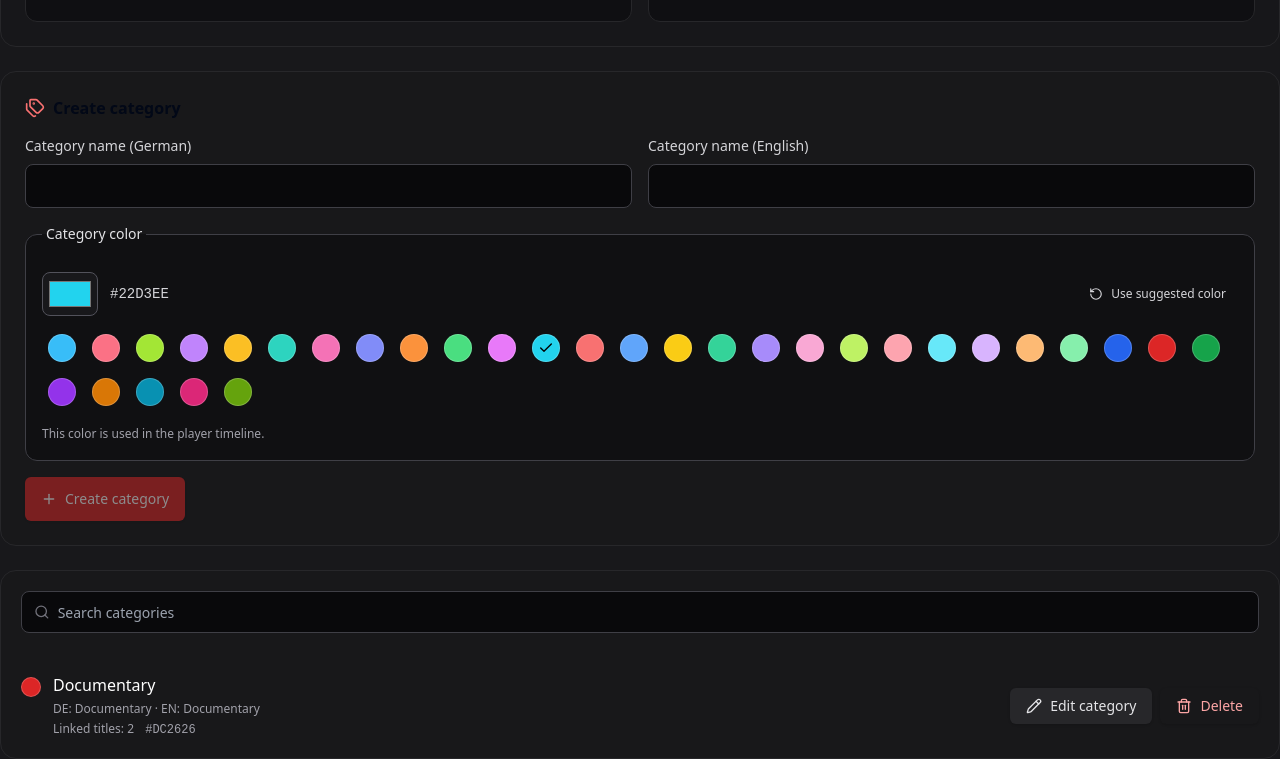
requires confirmation before deleting a linked category
(page scrolled)
Click the button with aria-label "Delete category: Documentary". click: click(1210, 706)
box: [1160, 688, 1259, 724]
(page scrolled)
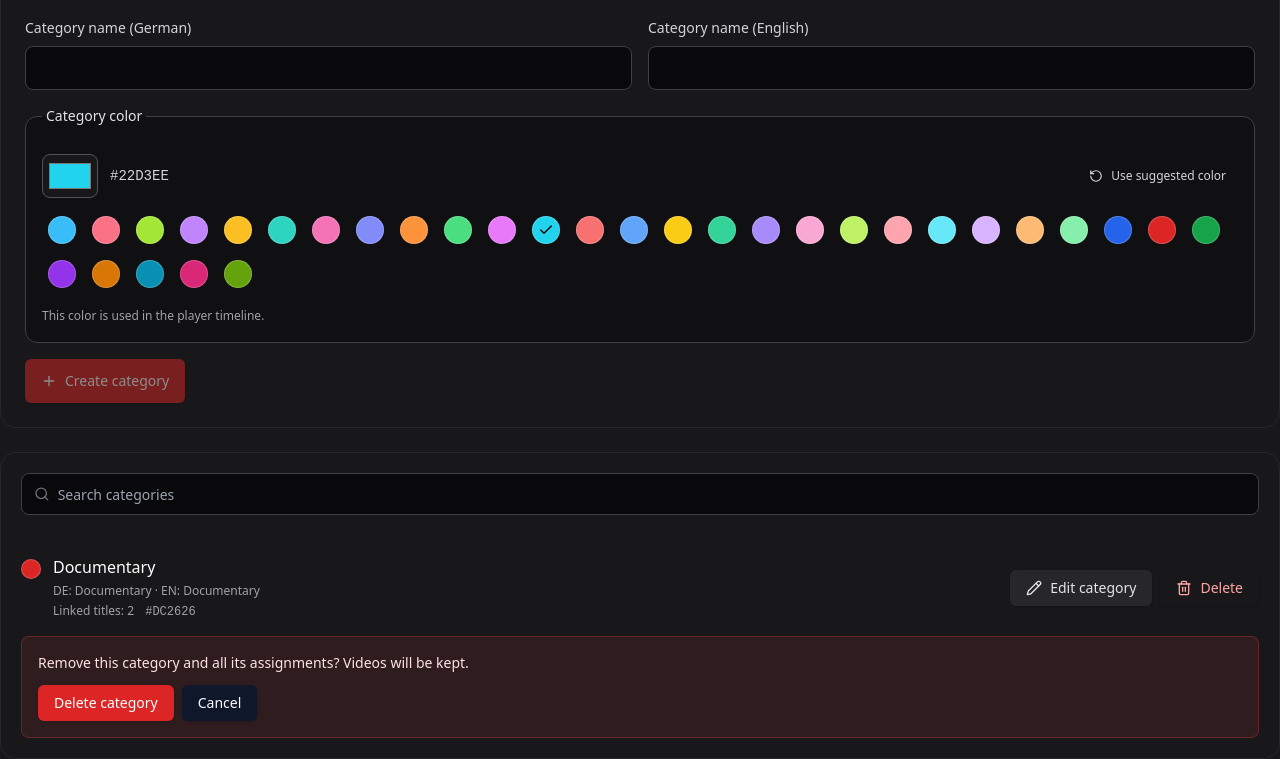
Now the text "Remove this category and all its assignments? Videos will be kept." is shown, box [38, 653, 469, 672]
Click the button "Cancel". click: click(220, 703)
box: [182, 685, 257, 721]
(page scrolled)
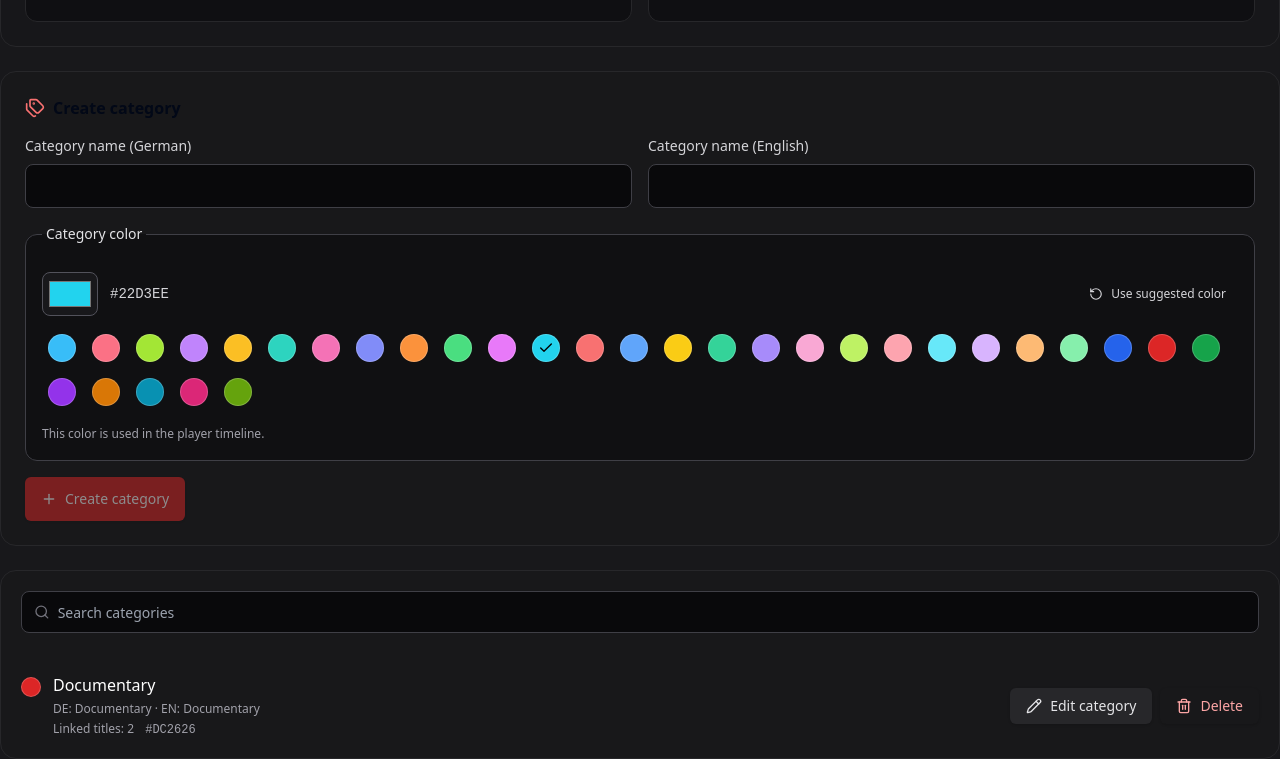
Click the button with aria-label "Delete category: Documentary". click: click(1210, 706)
box: [1160, 688, 1259, 724]
(page scrolled)
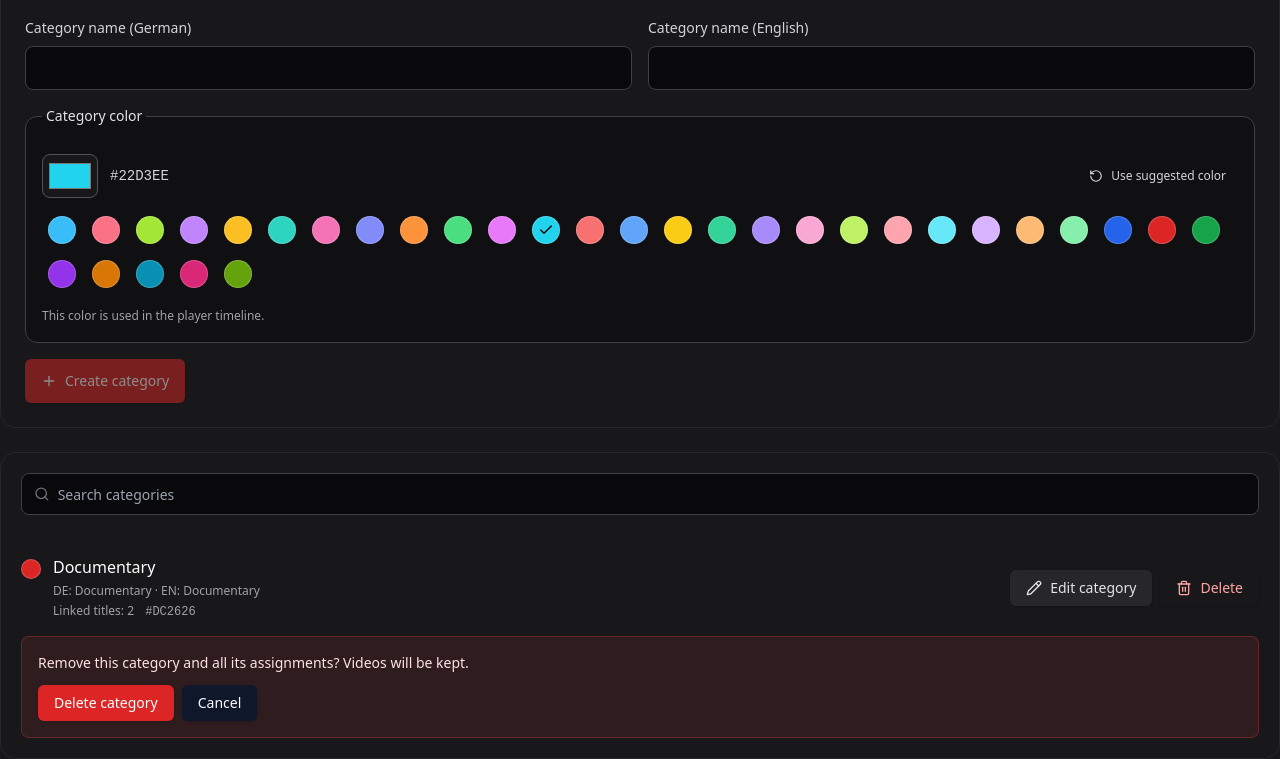
Click the button "Delete category". click: click(106, 703)
box: [38, 685, 174, 721]
(page scrolled)
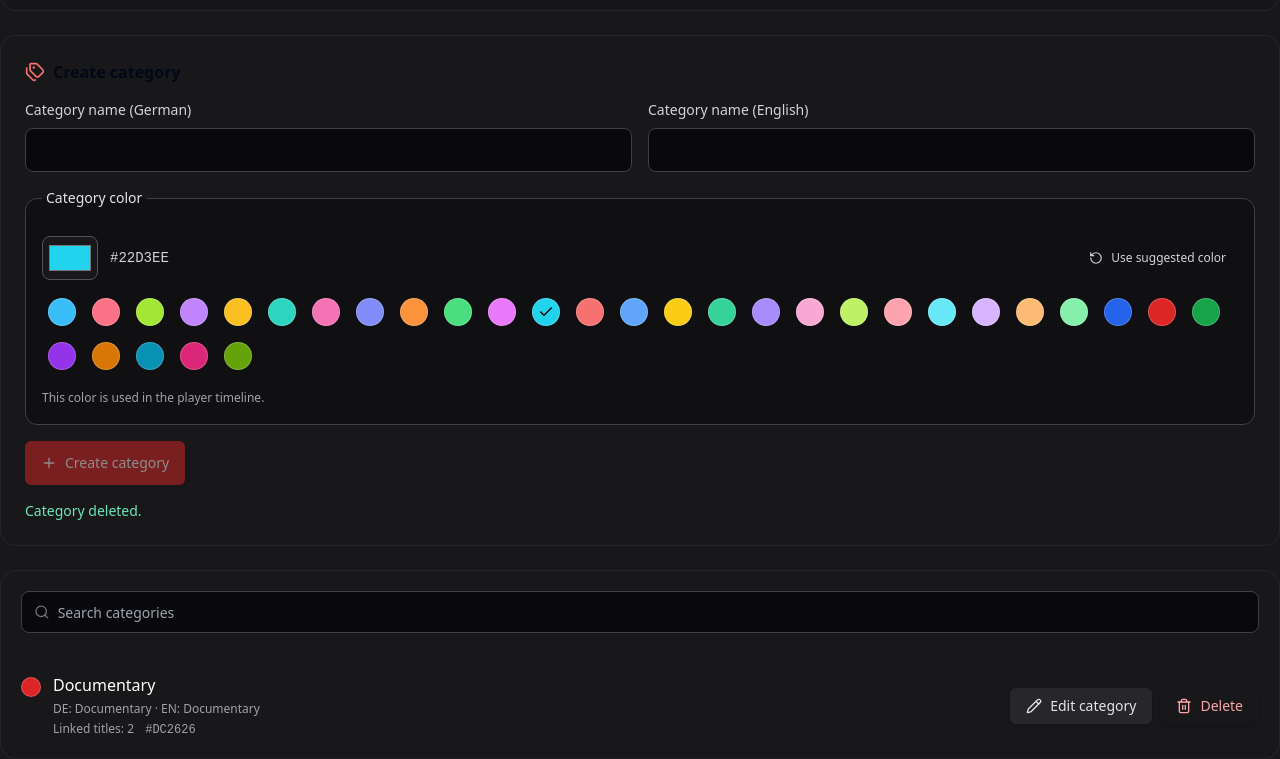
Now the text "Category deleted." is shown, box [25, 501, 142, 520]
